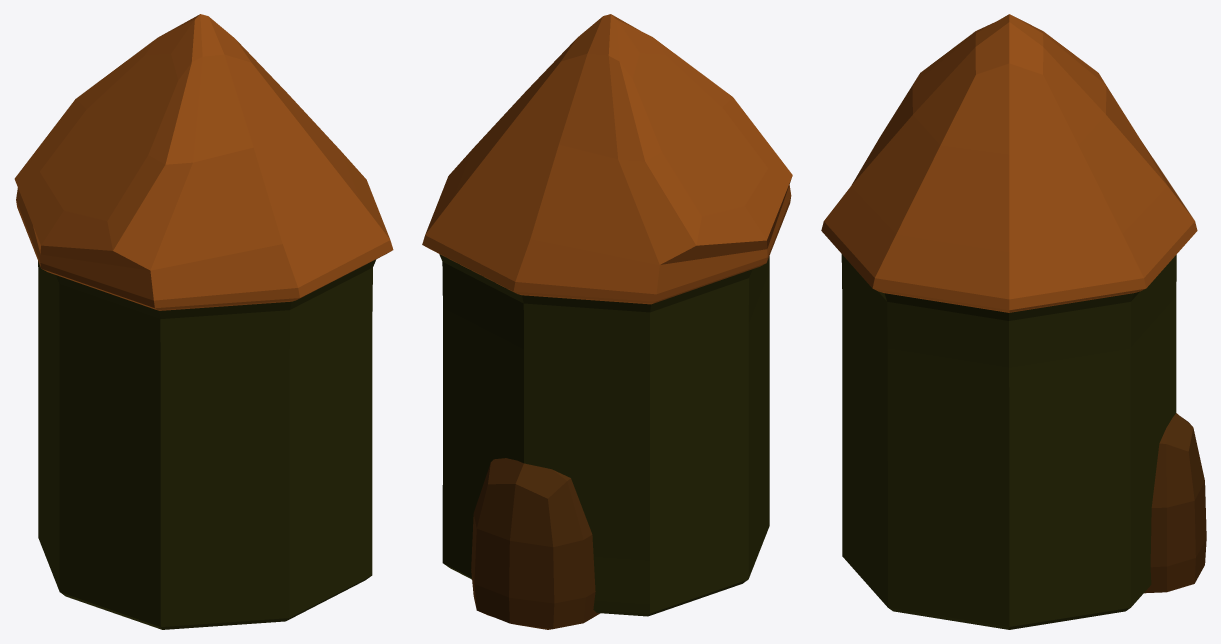
Rendered from building_house.fbx.
3 views of the same model, side by side, from view 1: azimuth 30°, elevation 25°; view 2: azimuth 150°, elevation 25°; view 3: azimuth 270°, elevation 25° (orthographic). The views are drawn at different scales.
Parts seen in each view (by area): view 1: Cube; view 2: Cube; view 3: Cube.
Part boxes in pixels (x1,y1,x2,y2): Cube: (14,14,393,629); Cube: (422,14,792,629); Cube: (821,14,1206,629).
Bounding box in the file's own units: 381 × 618 × 389.
